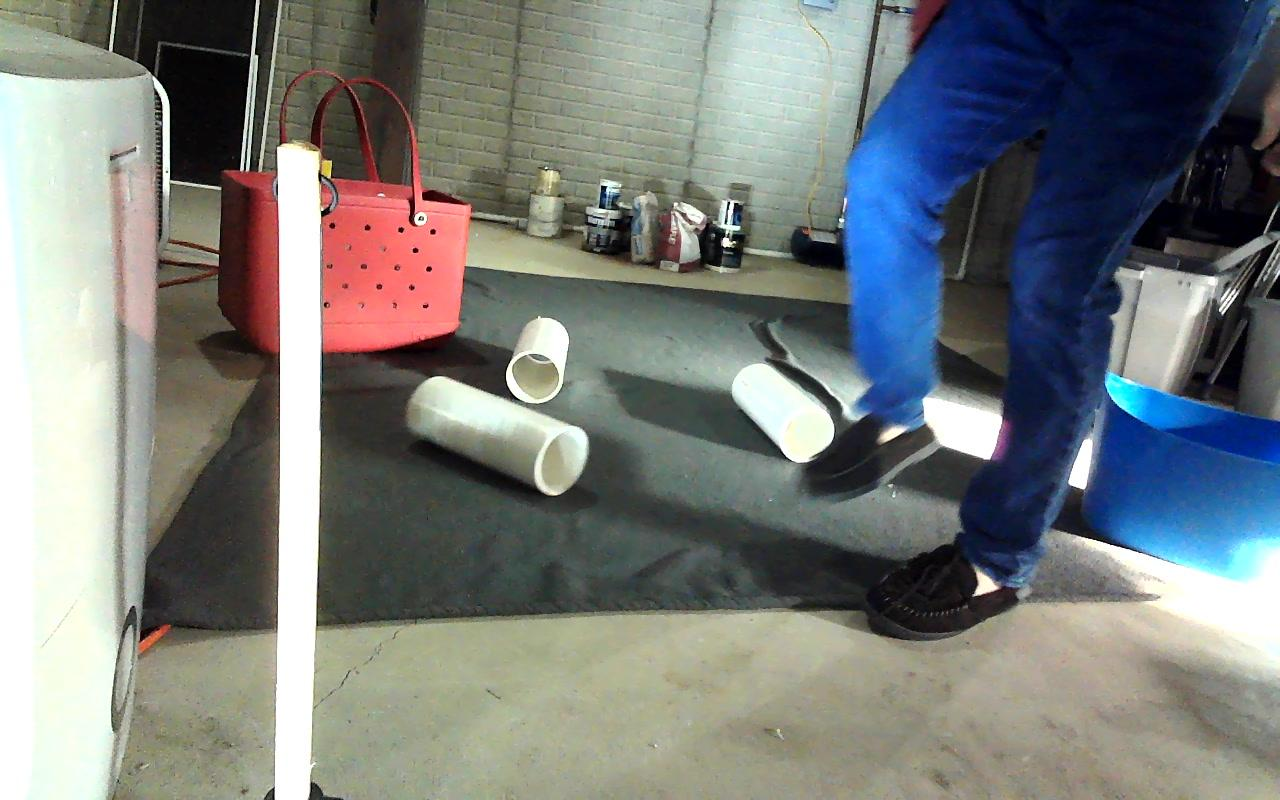coral: (405, 376, 588, 495), (731, 361, 835, 461), (507, 316, 572, 406)
